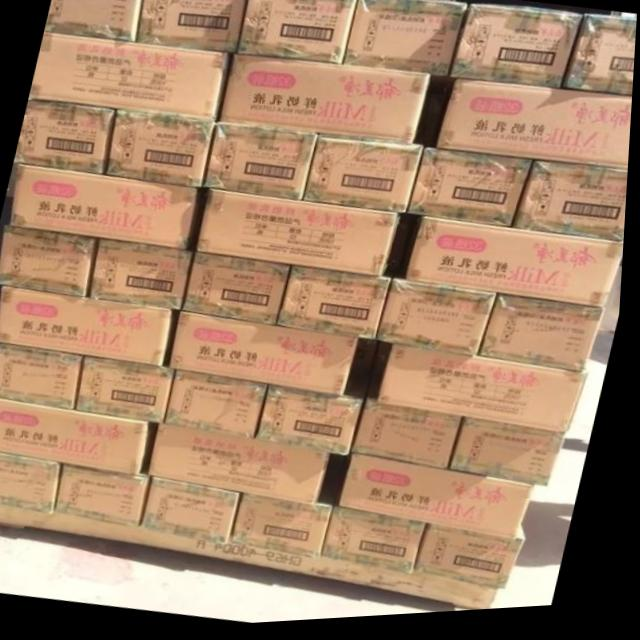box: (408, 219, 627, 316), (220, 55, 429, 149), (29, 30, 235, 124), (379, 349, 593, 439), (195, 191, 407, 280), (437, 83, 634, 178), (10, 164, 210, 254), (342, 457, 541, 546), (174, 313, 364, 398), (151, 426, 342, 509), (0, 285, 184, 369), (0, 398, 162, 477), (450, 11, 584, 96), (343, 0, 469, 88), (355, 381, 472, 474), (407, 151, 536, 235), (482, 300, 609, 380), (303, 137, 427, 217), (380, 281, 502, 362), (260, 376, 376, 460), (515, 166, 630, 250), (104, 110, 220, 190), (233, 481, 349, 561), (278, 269, 396, 344), (207, 125, 320, 203), (454, 424, 576, 494), (234, 0, 356, 68), (184, 255, 295, 329), (167, 371, 273, 443), (92, 240, 199, 311), (15, 98, 114, 174), (326, 511, 433, 580), (0, 223, 97, 298), (422, 529, 532, 594), (145, 478, 249, 546), (79, 356, 178, 426), (57, 464, 157, 529), (138, 0, 248, 54), (564, 21, 637, 102), (0, 344, 88, 411), (0, 451, 68, 513), (44, 0, 141, 43)
